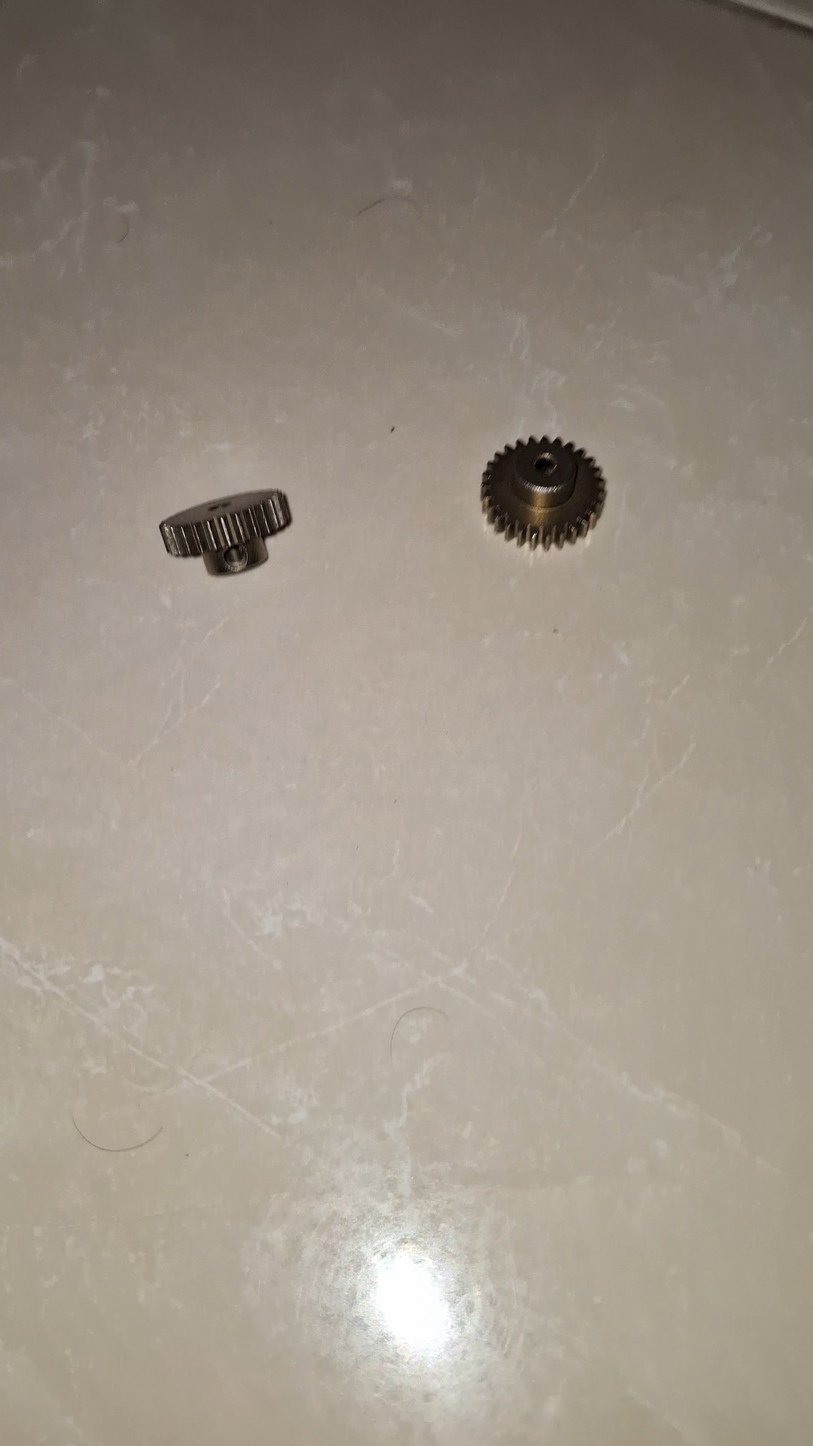spur gear: (481, 437, 605, 549), (160, 490, 290, 574)
